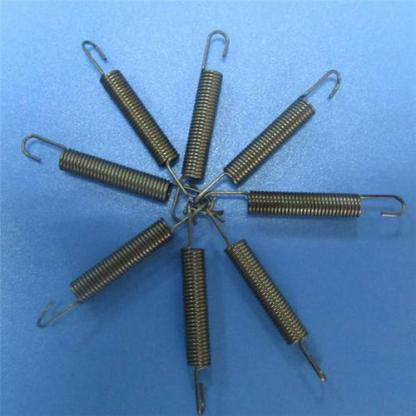FOD: (202, 204, 330, 388), (35, 195, 208, 330), (80, 36, 203, 207), (196, 68, 343, 207), (20, 132, 190, 222), (173, 28, 230, 222), (179, 209, 215, 415), (205, 190, 409, 223)
